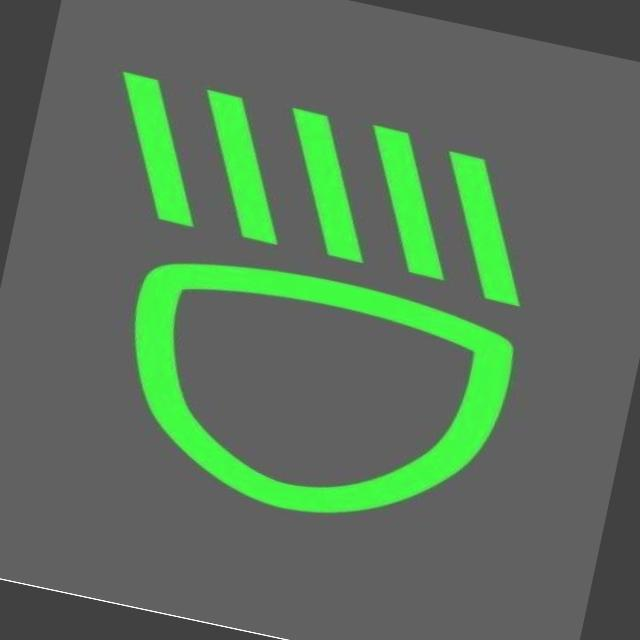kontrolka: (7, 32, 623, 587)
